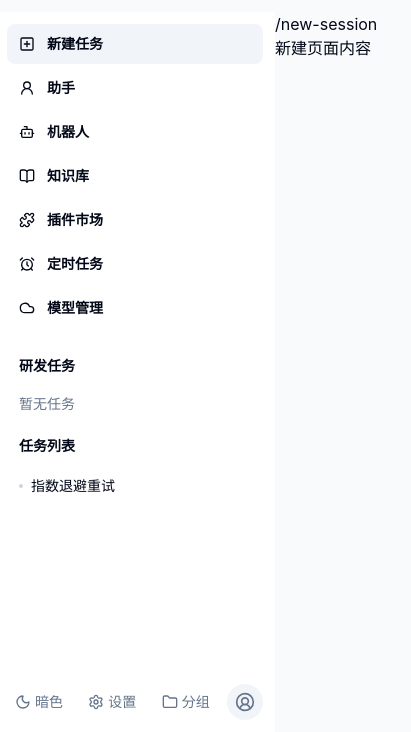
Scenario: WorkspaceLayout › navigates to the guada-style settings page from the sidebar footer
The width and height of the screenshot is (411, 732).
Click the button "设置": point(112, 702) [80, 686, 144, 718]
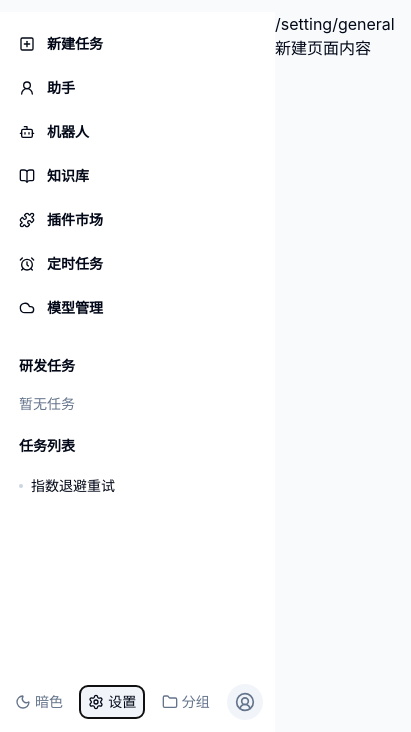
expect the text with test id "location-path" reads "/setting/general": met, box [275, 14, 395, 34]
